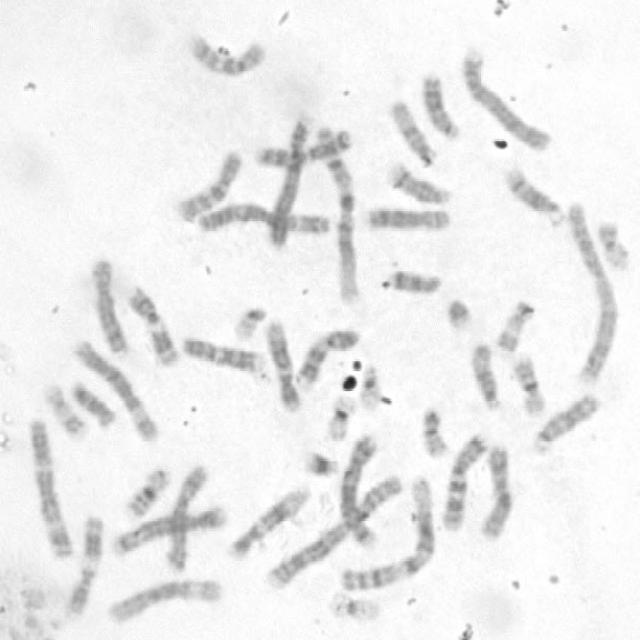A1: (335, 472, 437, 594), (314, 121, 359, 307)
A2: (260, 474, 406, 594), (563, 199, 620, 384)
A3: (24, 414, 75, 560), (192, 196, 334, 236)
B4: (458, 45, 553, 154), (262, 114, 312, 252)
B5: (107, 500, 229, 559), (336, 430, 380, 549)
C10: (172, 146, 244, 224), (181, 28, 269, 79)
C11: (61, 509, 106, 617), (124, 283, 180, 368)
C12: (225, 480, 313, 560), (262, 316, 302, 414)
C6: (70, 337, 160, 443), (104, 574, 223, 626)
C7: (437, 428, 491, 533), (251, 131, 351, 167)
C8: (86, 254, 130, 356), (361, 201, 453, 233)
C9: (293, 324, 363, 389), (178, 332, 264, 373)
D13: (530, 389, 602, 457), (417, 69, 462, 141)
D14: (501, 163, 567, 229), (384, 159, 452, 207)
D15: (386, 96, 438, 166), (467, 338, 503, 412)
E16: (124, 463, 172, 520), (509, 351, 548, 418)
E17: (38, 379, 86, 438), (492, 296, 536, 354)
E18: (67, 378, 118, 429), (381, 266, 442, 296)
F19: (324, 586, 383, 624), (322, 390, 358, 442)
F20: (592, 217, 633, 271), (417, 403, 450, 461)
G21: (298, 448, 341, 479), (441, 293, 475, 331)
G22: (229, 304, 268, 342), (358, 366, 380, 410)
X: (161, 458, 212, 573), (476, 441, 514, 541)
